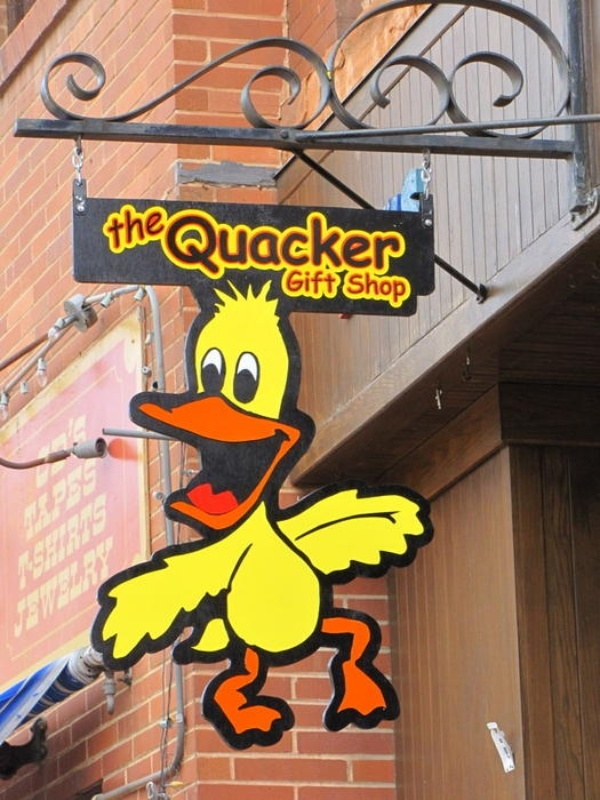text: (17, 531, 32, 643), (33, 531, 48, 643), (49, 531, 64, 643), (65, 531, 80, 643), (81, 531, 96, 643), (97, 531, 112, 643), (17, 491, 32, 593), (33, 491, 48, 593), (49, 491, 64, 593), (65, 491, 80, 593), (81, 491, 96, 593), (81, 456, 97, 543), (33, 456, 48, 543), (49, 456, 64, 543), (65, 456, 80, 543), (49, 410, 64, 492), (65, 410, 80, 492), (34, 410, 48, 492), (97, 491, 108, 593), (385, 210, 401, 277), (177, 210, 192, 277), (193, 210, 208, 277), (209, 210, 224, 277), (225, 210, 240, 277), (241, 210, 256, 277), (257, 210, 272, 277), (273, 210, 288, 277), (289, 210, 304, 277), (305, 210, 320, 277), (321, 210, 336, 277), (337, 210, 352, 277), (353, 210, 368, 277), (369, 210, 384, 277), (22, 456, 32, 543), (113, 201, 128, 251), (129, 201, 144, 251), (145, 201, 160, 251), (81, 410, 90, 492), (102, 201, 112, 251), (353, 271, 368, 303), (369, 271, 384, 303), (385, 271, 400, 303), (321, 268, 337, 295), (289, 268, 304, 295), (305, 268, 320, 295), (170, 210, 176, 277), (13, 531, 16, 643), (161, 201, 166, 251), (113, 531, 115, 643), (401, 271, 407, 303), (347, 271, 352, 303), (15, 491, 16, 593), (285, 268, 288, 295)
